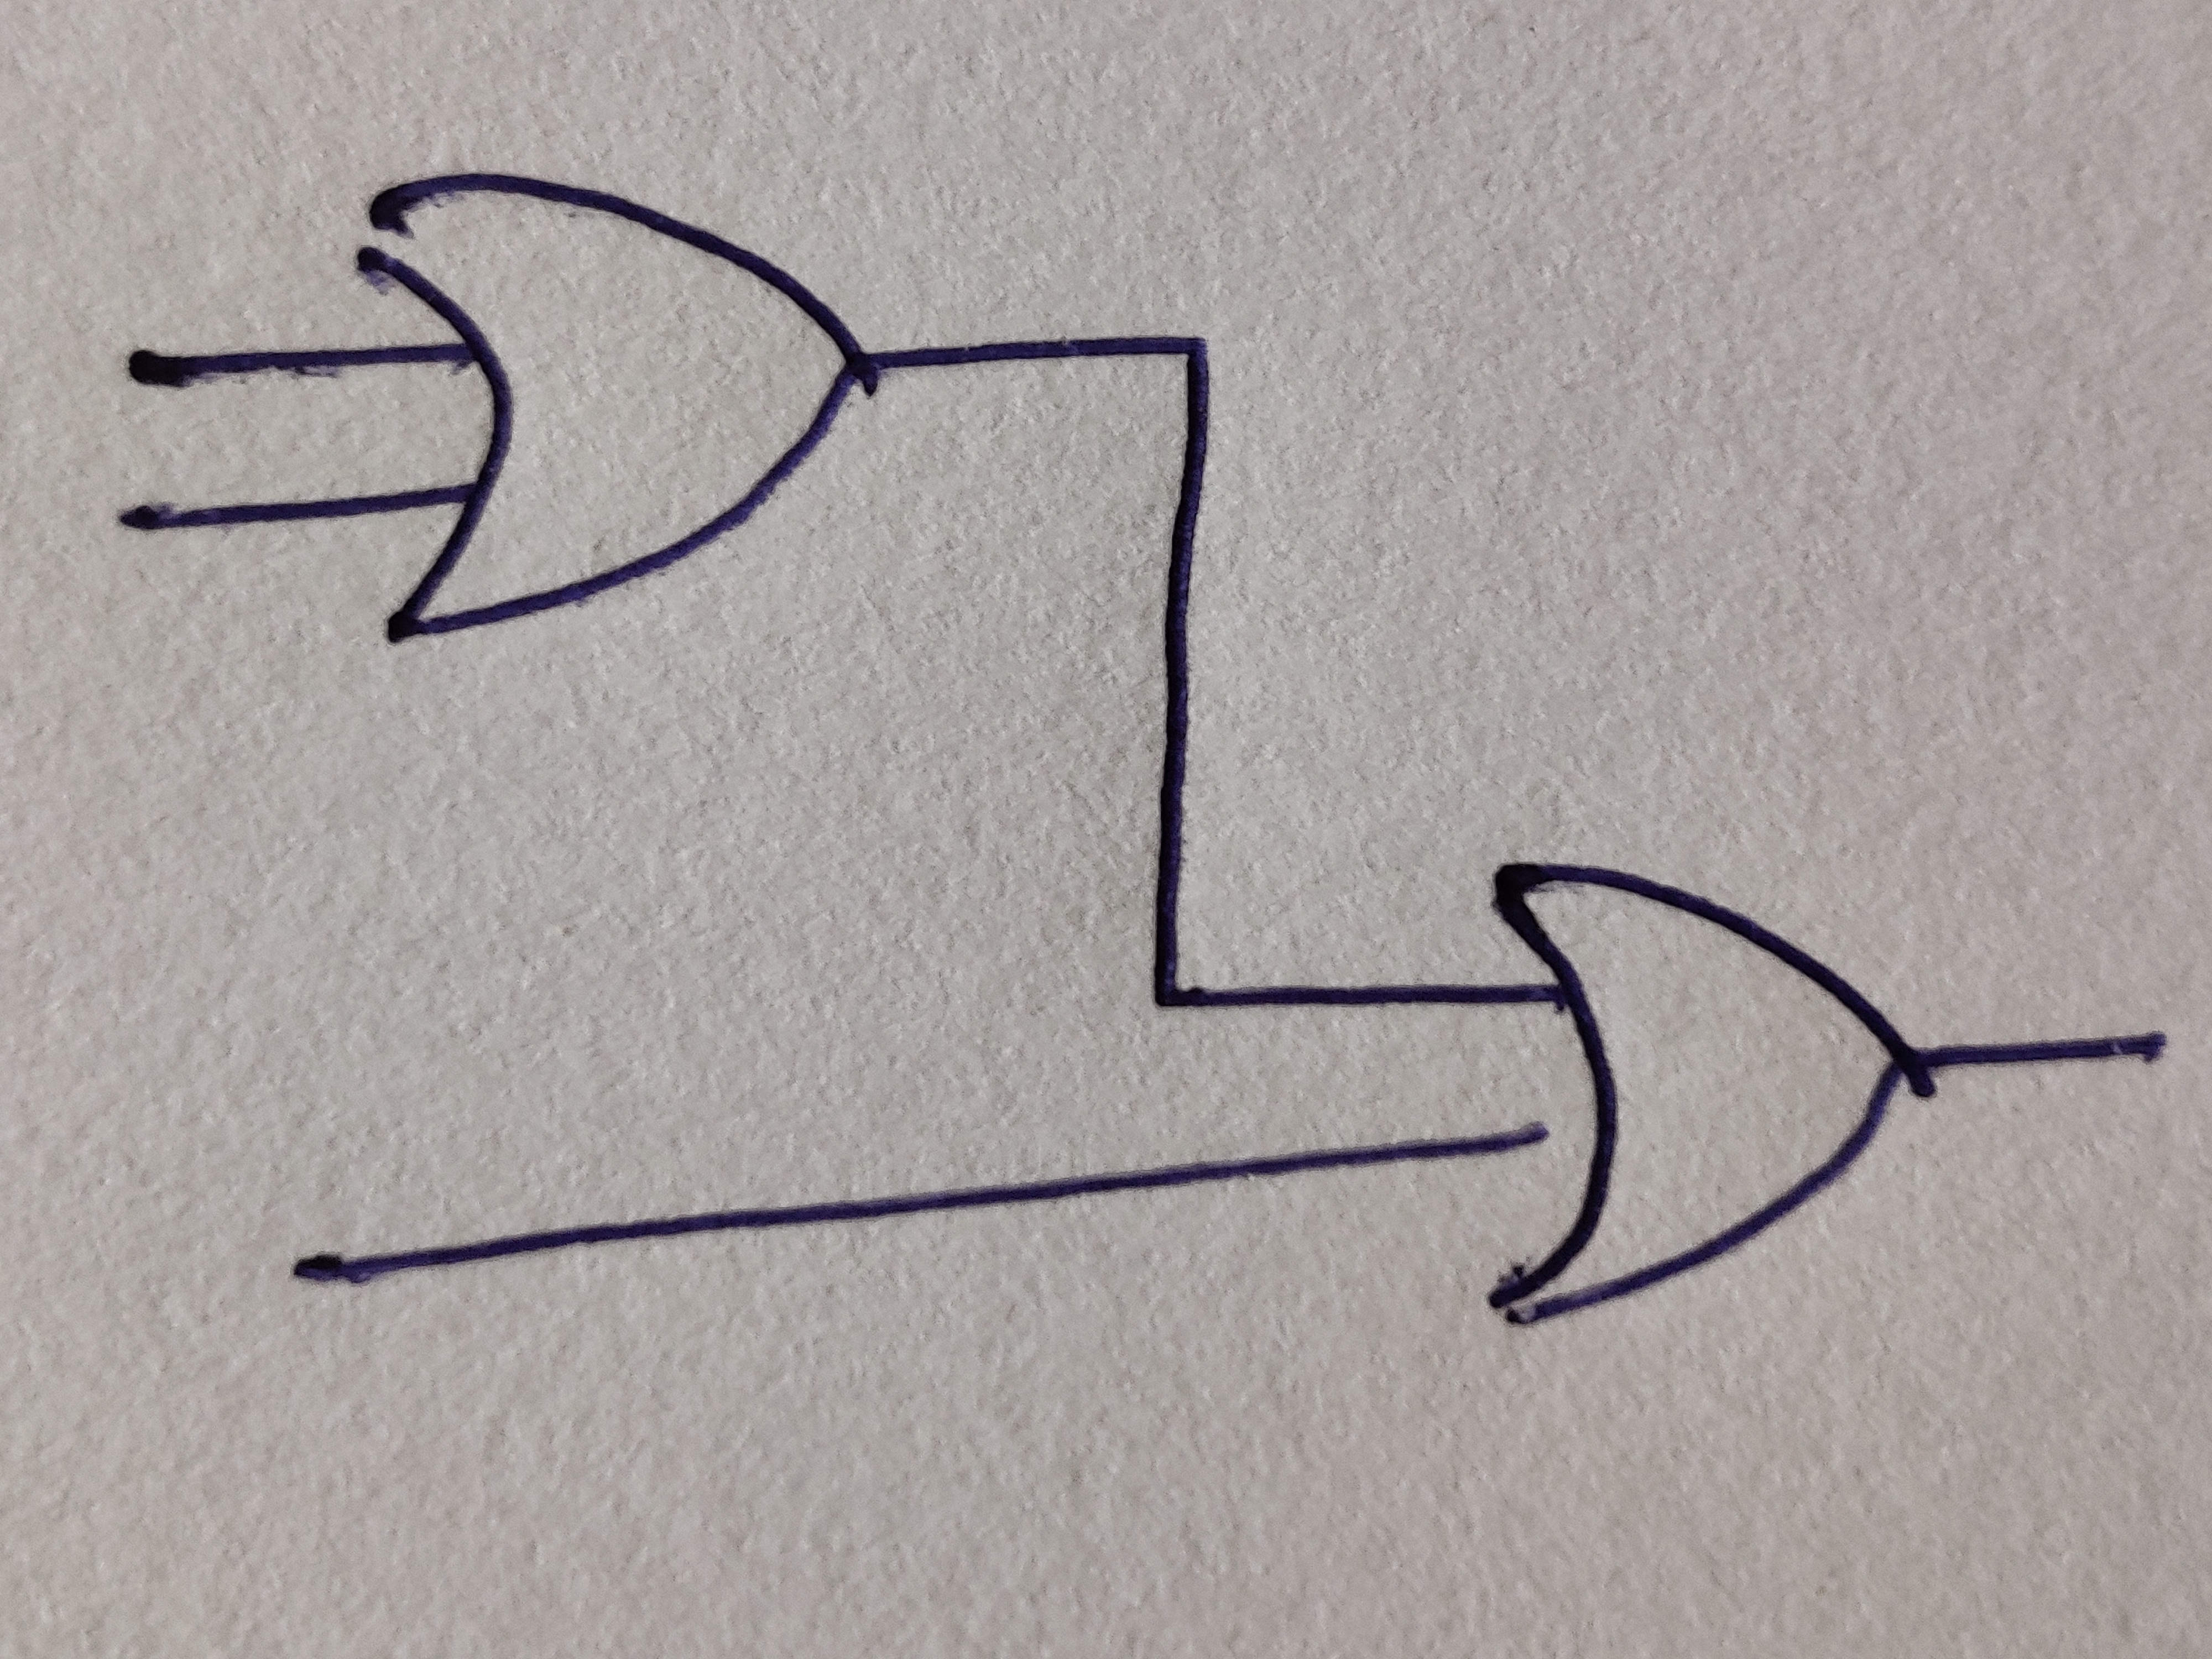or: (355, 173, 881, 643), (1496, 861, 1935, 1326)
